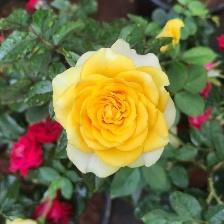rose: (51, 46, 177, 179)
